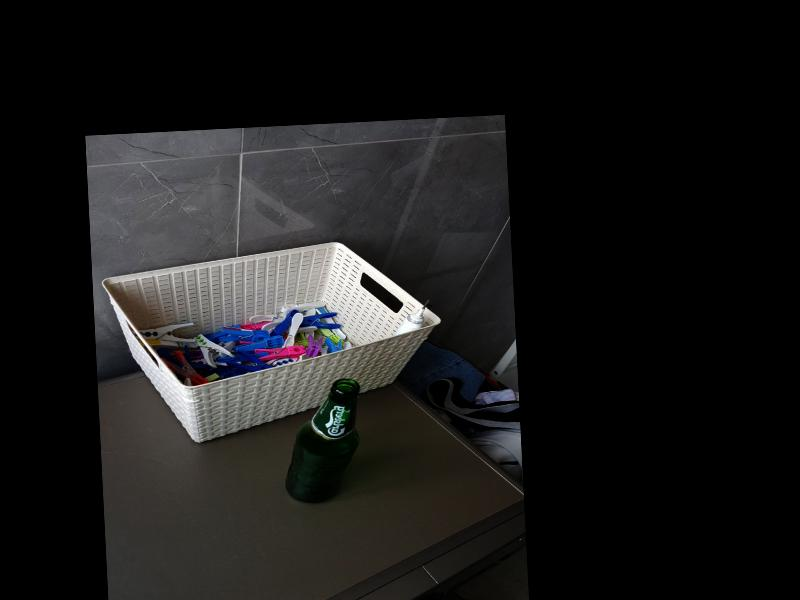Beer: (280, 377, 364, 504)
